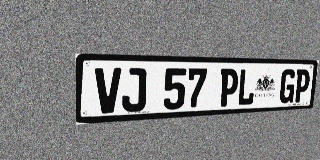5: (163, 68, 186, 110)
7: (185, 68, 207, 109)
G: (278, 69, 297, 103)
J: (122, 68, 147, 112)
L: (237, 69, 257, 106)
P: (218, 69, 239, 107), (293, 69, 311, 103)
V: (95, 68, 121, 114)
